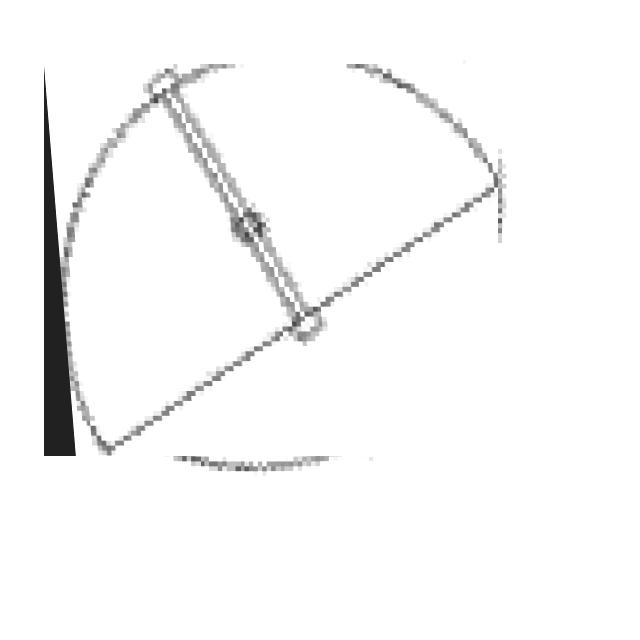door: (44, 64, 498, 457)
